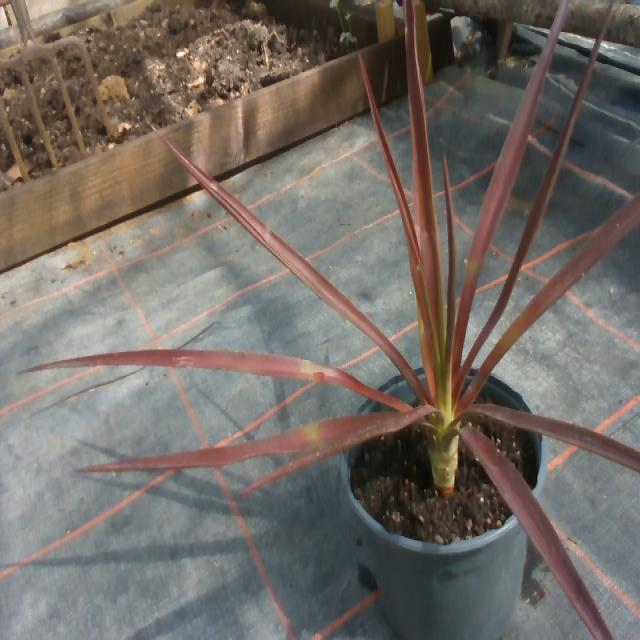Yucca-aloifolia: (156, 129, 425, 399), (458, 0, 613, 381), (453, 0, 568, 364), (460, 195, 639, 407), (460, 427, 612, 639), (24, 352, 404, 409), (359, 57, 427, 319), (76, 416, 373, 469), (246, 417, 421, 492), (406, 0, 443, 337), (471, 407, 639, 472), (443, 152, 455, 393), (379, 409, 423, 425)
